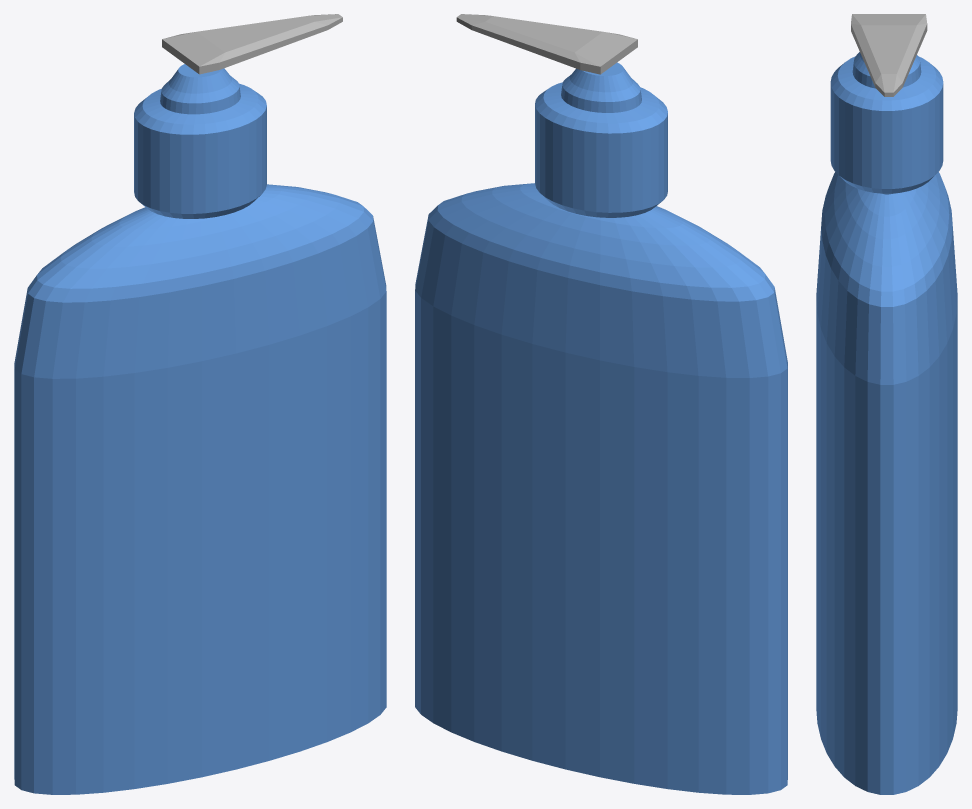
The model's file is HandCream.fbx.
The picture shows the model from 3 angles, left to right: view 1: azimuth 30°, elevation 25°; view 2: azimuth 150°, elevation 25°; view 3: azimuth 270°, elevation 25°; orthographic projection.
Visible parts, largest first — view 1: HandCream; view 2: HandCream; view 3: HandCream.
Part boxes in pixels (x1=…): HandCream: x1=14, y1=14, x2=386, y2=794; HandCream: x1=415, y1=14, x2=787, y2=794; HandCream: x1=816, y1=14, x2=957, y2=794.
Size of the model in its own units: 12.77 by 4.36 by 23.34.
